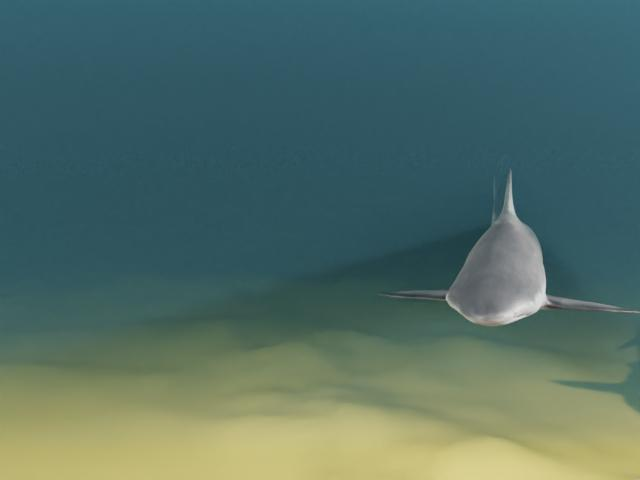Carribean Shark.001: (376, 155, 640, 326)
